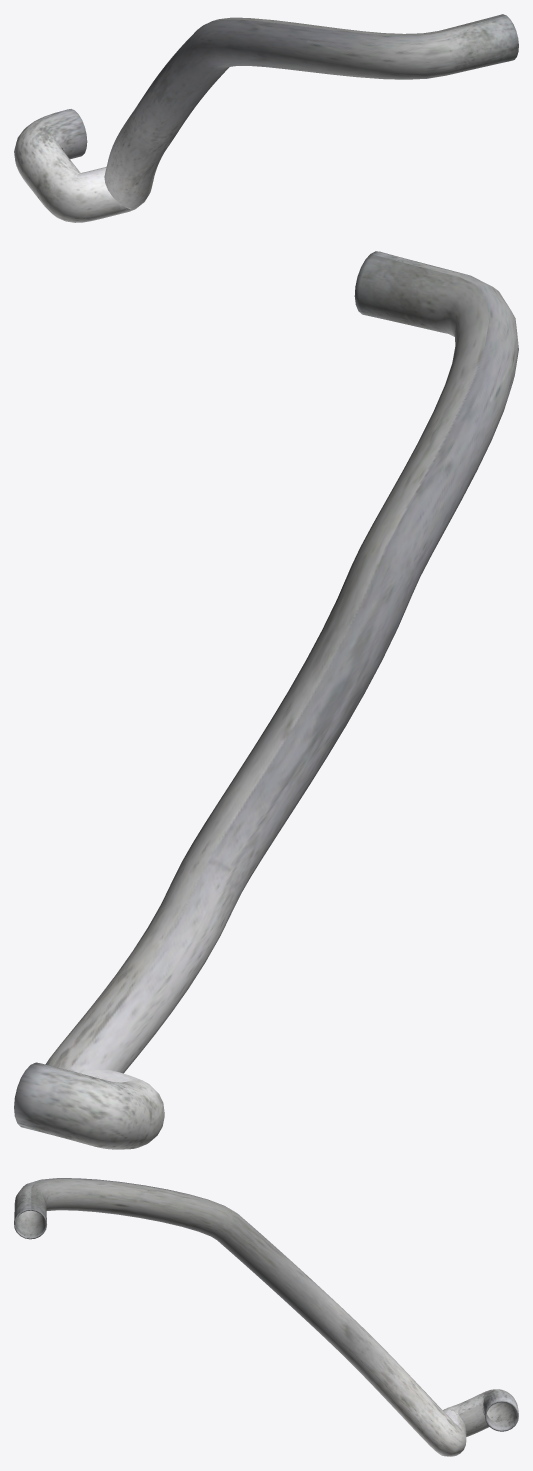
The model's file is intercooler_manifold_twinCarb_tube.fbx.
3 views of the same model, one above another, from view 1: azimuth 30°, elevation 25°; view 2: azimuth 150°, elevation 25°; view 3: azimuth 270°, elevation 25° (orthographic). The views are drawn at different scales.
Parts seen in each view (by area): view 1: intercooler_manifold_twinCarb_tube; view 2: intercooler_manifold_twinCarb_tube; view 3: intercooler_manifold_twinCarb_tube.
Boxes of the visible parts, x1,y1,x2,y2 form: intercooler_manifold_twinCarb_tube: (14,14,518,222); intercooler_manifold_twinCarb_tube: (14,251,518,1149); intercooler_manifold_twinCarb_tube: (14,1178,518,1456).
Bounding box in the file's own units: 18.05 × 39.92 × 66.63.
1 material, 1 textured.
